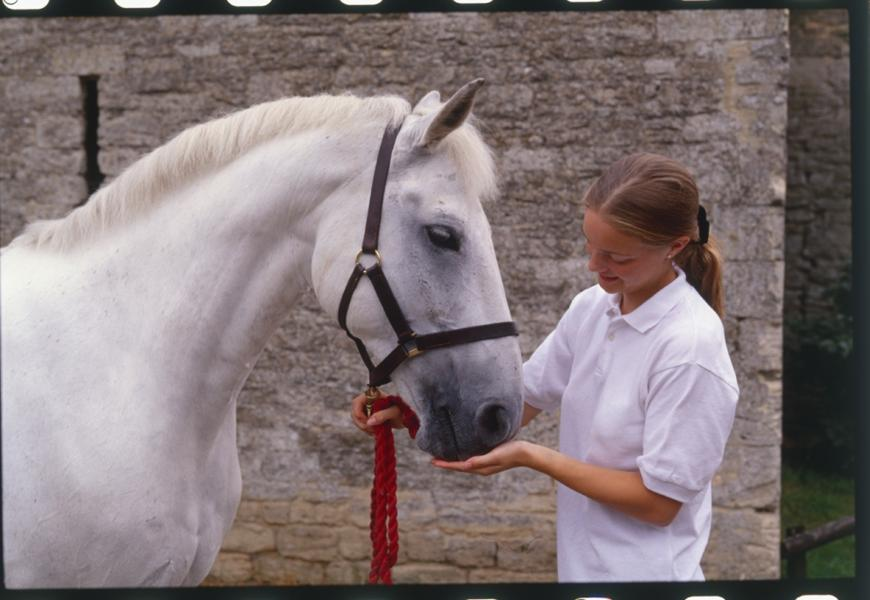person: (352, 154, 740, 587)
